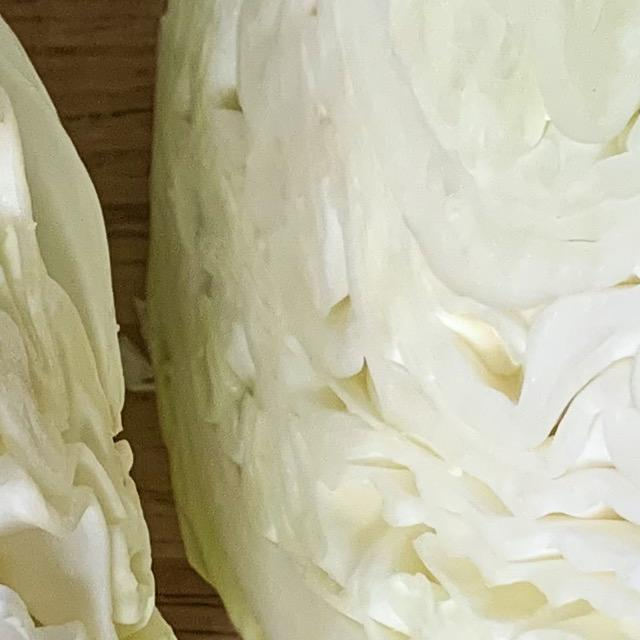cabbage: (131, 0, 640, 640), (0, 0, 240, 640)
